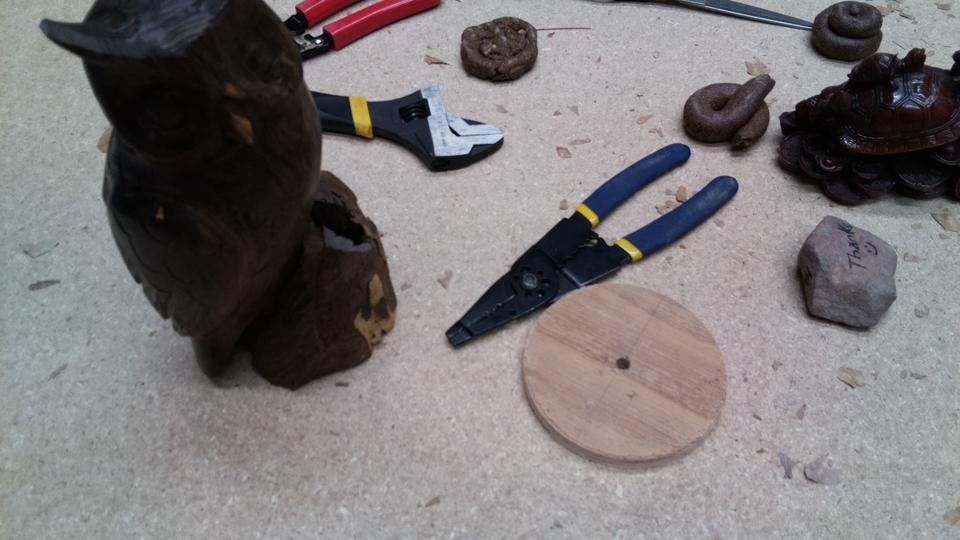poop: (681, 69, 779, 153), (456, 15, 541, 85), (809, 1, 885, 66)
